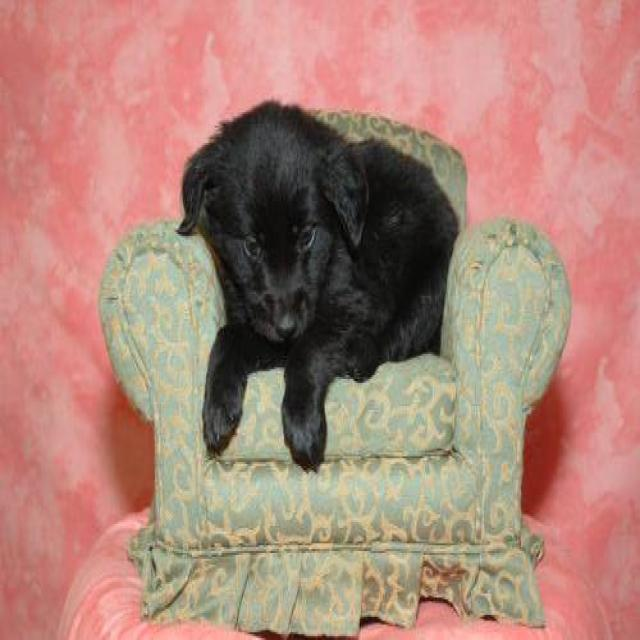dog: (174, 96, 460, 472)
